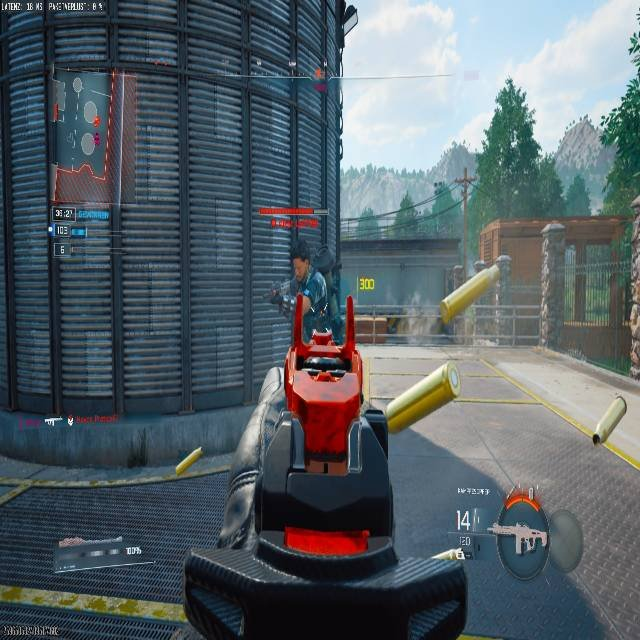head: (288, 237, 310, 278)
player: (269, 236, 330, 348)
